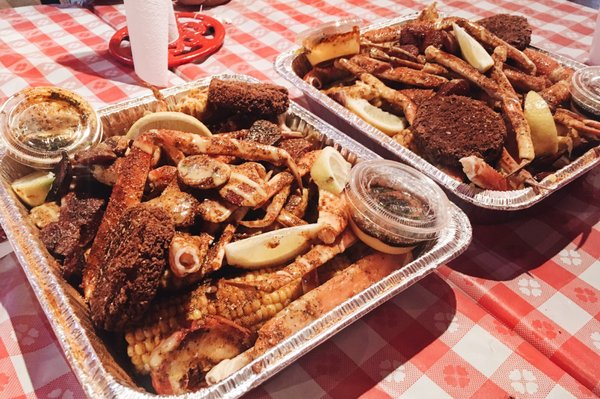pizza: (123, 0, 176, 89)
